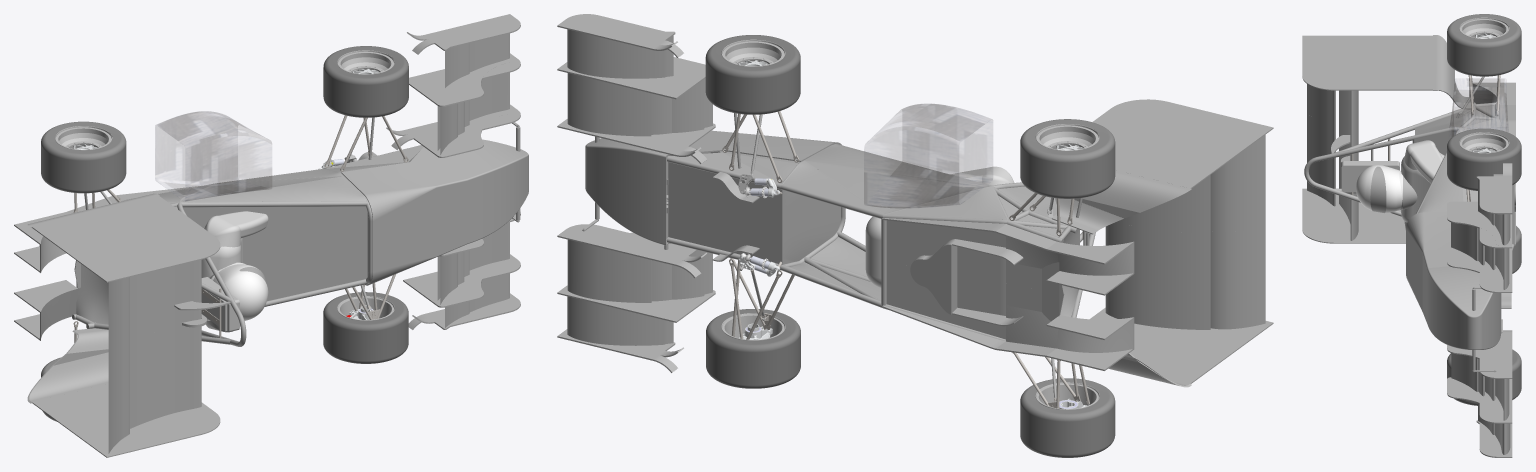
The picture shows the model from 3 angles, left to right: view 1: azimuth 30°, elevation 25°; view 2: azimuth 150°, elevation 25°; view 3: azimuth 270°, elevation 25°; orthographic projection. The views are drawn at different scales.
Parts seen in each view (by area): view 1: Aerodynamics - CFD Model (2) (1); view 2: Aerodynamics - CFD Model (2) (1); view 3: Aerodynamics - CFD Model (2) (1).
Boxes of the visible parts, <box> form: Aerodynamics - CFD Model (2) (1): <box>14,14,528,457</box>; Aerodynamics - CFD Model (2) (1): <box>557,14,1273,457</box>; Aerodynamics - CFD Model (2) (1): <box>1302,14,1521,457</box>.
Size of the model in its own units: 2.88 by 1.54 by 1.19.
